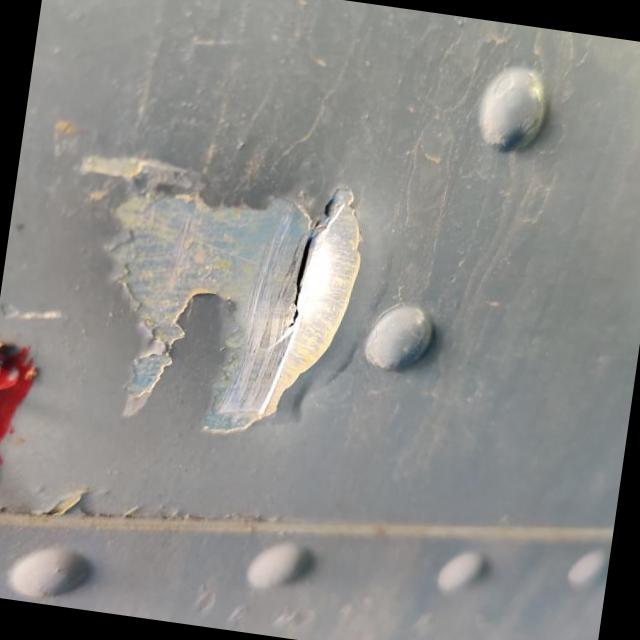Crack: (275, 183, 354, 360)
Paint-off: (86, 158, 364, 437)
